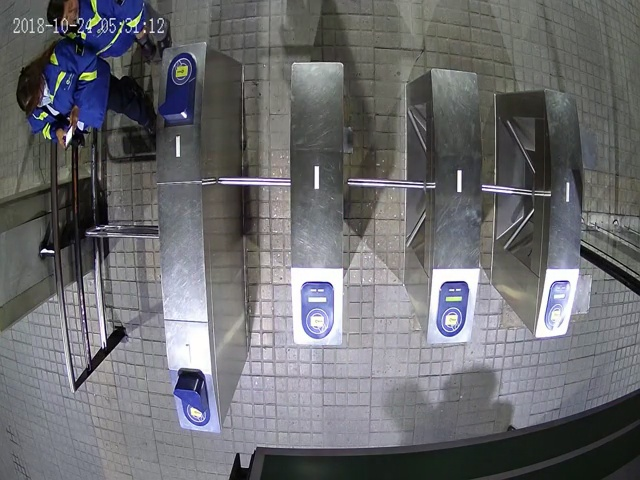Chaleco_azul: (15, 37, 159, 148), (47, 1, 171, 61)
